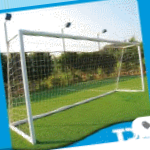goals: (6, 28, 145, 143)
